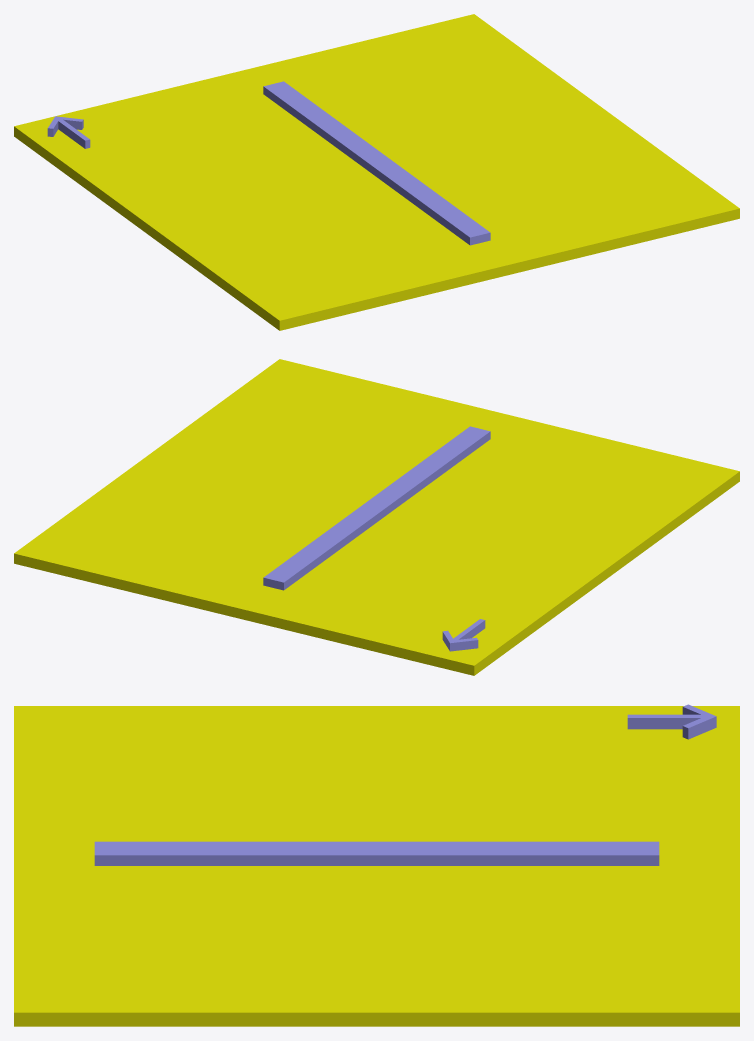
The model's file is mark_1.fbx.
3 views of the same model, one above another, from view 1: azimuth 30°, elevation 25°; view 2: azimuth 150°, elevation 25°; view 3: azimuth 270°, elevation 25° (orthographic). The views are drawn at different scales.
Visible parts, largest first — view 1: pCube3, pCube4; view 2: pCube3, pCube4; view 3: pCube3, pCube4, pCube7.
Part boxes in pixels (left/top/right/bottom): pCube3: left=14, top=14, right=739, bottom=330; pCube4: left=263, top=81, right=490, bottom=245; pCube3: left=14, top=359, right=739, bottom=675; pCube4: left=263, top=426, right=490, bottom=590; pCube3: left=14, top=706, right=739, bottom=1026; pCube4: left=94, top=841, right=659, bottom=865; pCube7: left=627, top=714, right=704, bottom=729.
Bounding box in the file's own units: 0.9 × 0.0345 × 0.9.
